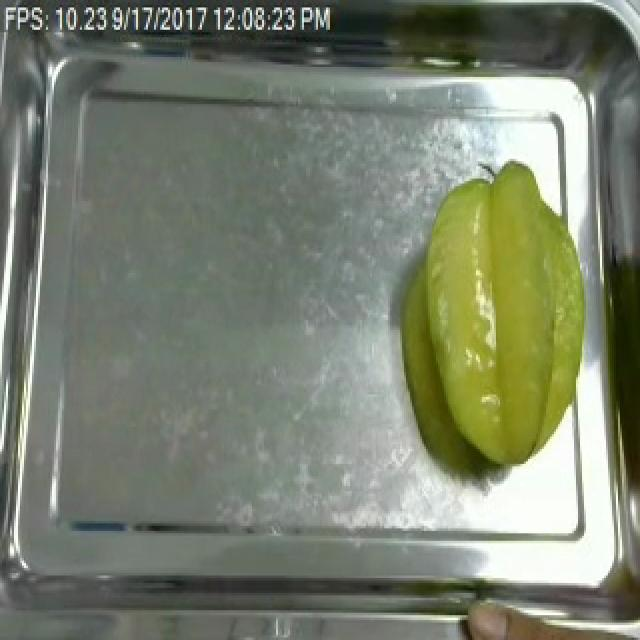fruit: (410, 159, 596, 479)
